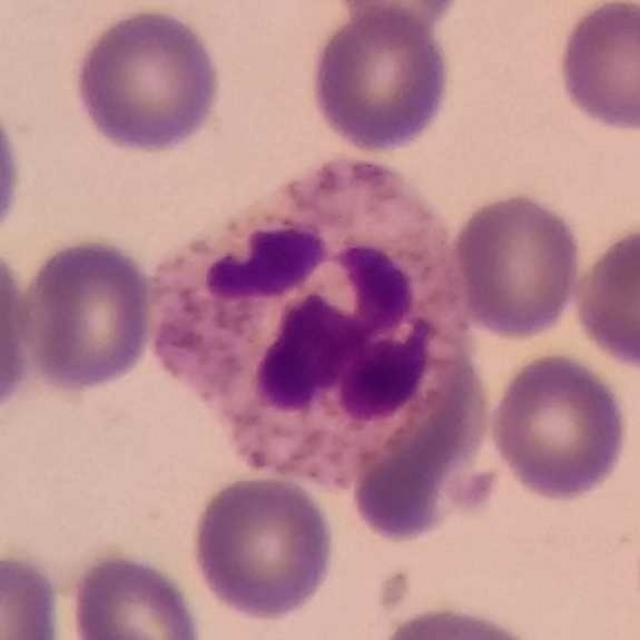Neutrophil: (139, 154, 489, 499)
RBC: (69, 3, 226, 156), (486, 348, 634, 506), (187, 471, 339, 624), (305, 2, 455, 156), (15, 233, 158, 394), (448, 187, 586, 342), (65, 546, 207, 640), (553, 0, 640, 137), (569, 220, 640, 375), (367, 600, 553, 640), (0, 236, 38, 425), (0, 547, 68, 640), (328, 0, 468, 39), (0, 89, 27, 248)
